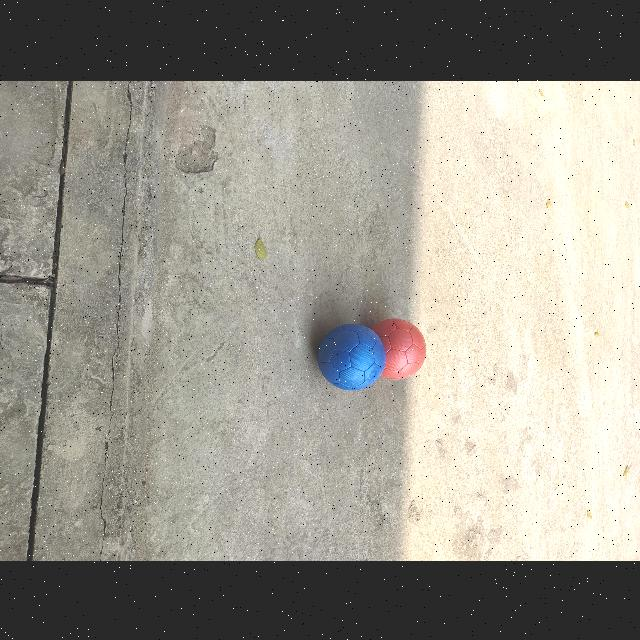B: (317, 322, 386, 389)
R: (372, 318, 426, 378)
